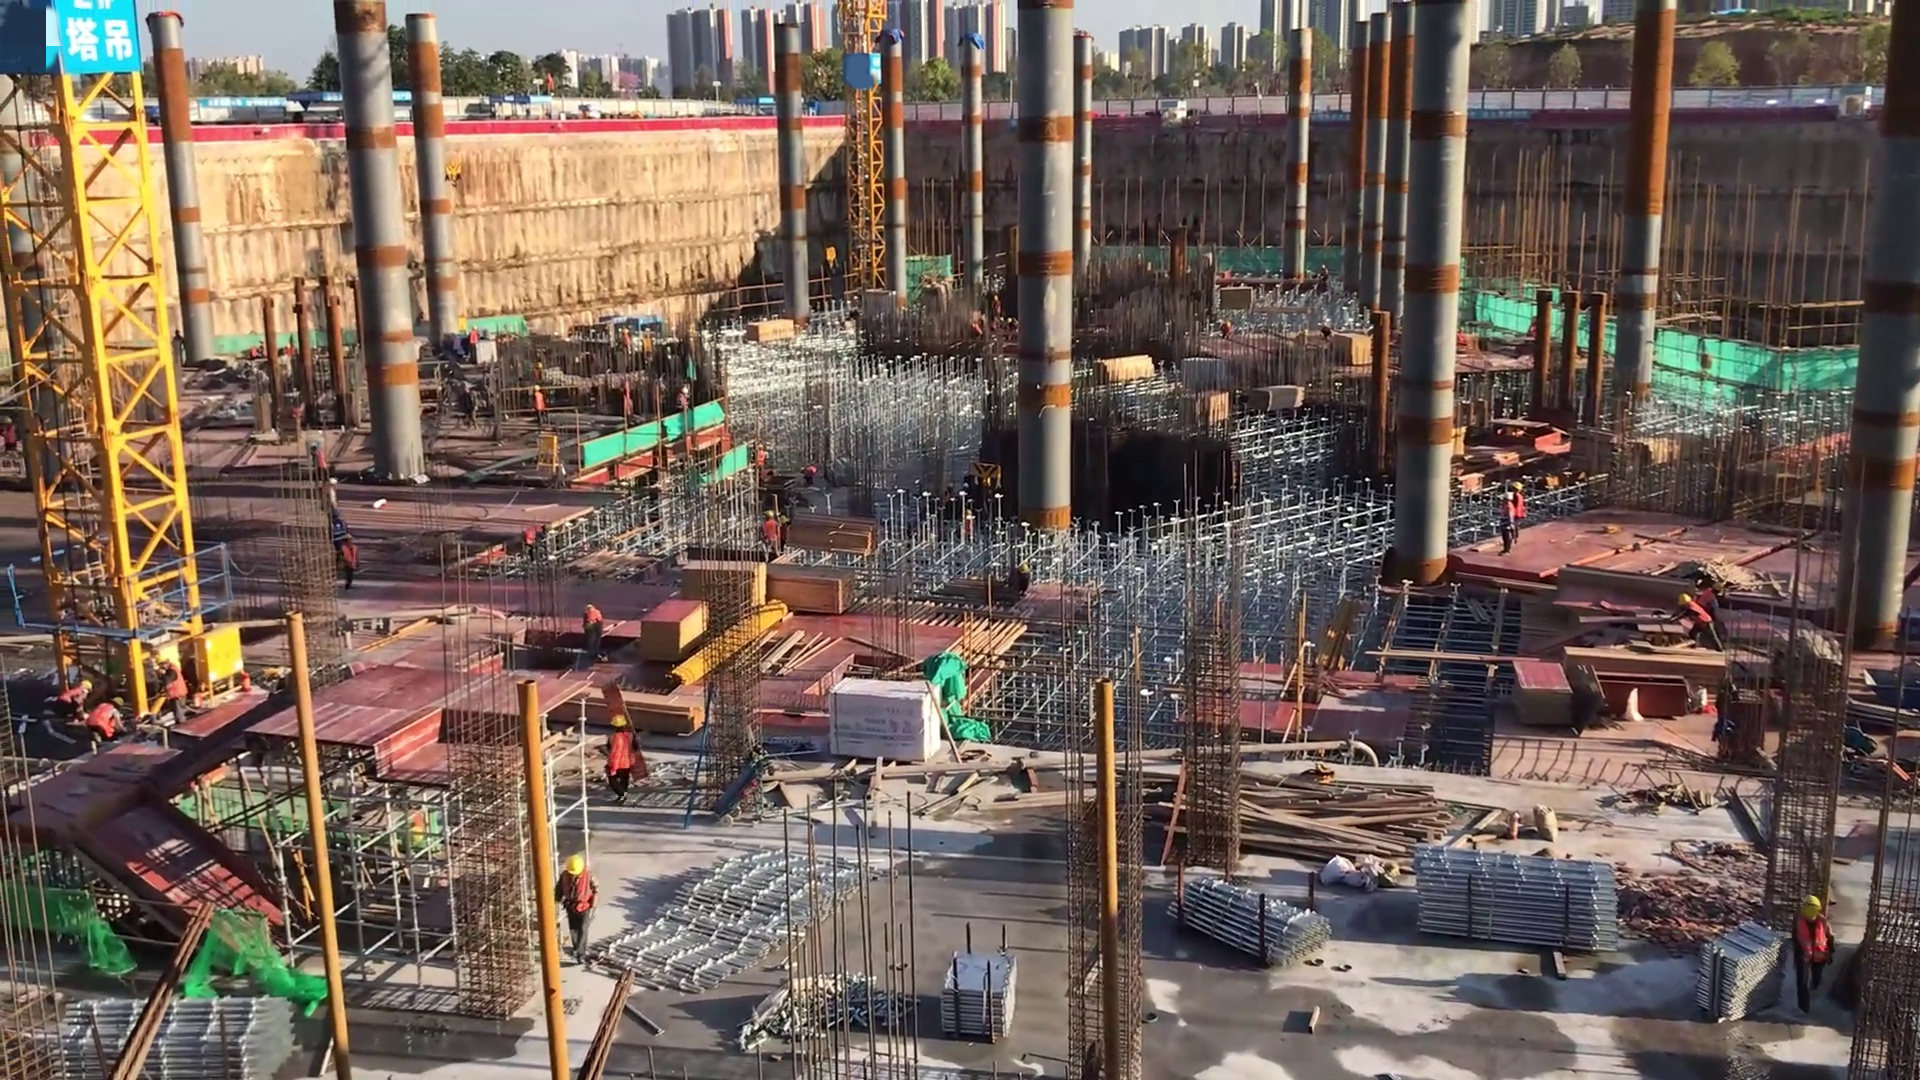board: (680, 560, 772, 621), (1508, 657, 1579, 729), (638, 597, 709, 666)
ebox: (198, 617, 245, 705), (536, 427, 569, 485)
helmet: (565, 851, 590, 879), (1799, 893, 1823, 922), (610, 709, 632, 732), (1675, 591, 1696, 612), (77, 678, 100, 692), (108, 693, 126, 709), (153, 652, 169, 669), (1510, 481, 1523, 496), (532, 383, 546, 394), (3, 415, 14, 429), (680, 384, 691, 396), (310, 440, 318, 454)
hook: (818, 238, 850, 278), (441, 156, 472, 188)
person: (1794, 893, 1832, 1018), (556, 852, 598, 963), (1674, 573, 1728, 653), (1670, 593, 1724, 656), (153, 655, 191, 733), (606, 711, 634, 808), (576, 598, 606, 679), (83, 694, 126, 745), (1334, 330, 1379, 373), (55, 679, 97, 722), (337, 532, 361, 592), (520, 516, 553, 559), (761, 508, 785, 566), (1507, 480, 1526, 549), (1500, 493, 1516, 558), (309, 437, 329, 486), (322, 477, 344, 520), (532, 382, 548, 435), (1, 413, 20, 455), (794, 459, 821, 487), (332, 524, 350, 565), (466, 323, 481, 364), (678, 382, 689, 421), (1221, 318, 1233, 340)
scaffold: (35, 977, 340, 1080), (1408, 849, 1631, 952), (1169, 869, 1340, 962), (1698, 923, 1779, 1034)
slogan: (37, 1, 140, 78), (1463, 109, 1539, 125), (1313, 111, 1359, 124)
vest: (555, 866, 600, 922), (1795, 916, 1829, 973), (607, 730, 632, 785), (90, 701, 120, 739), (1683, 600, 1713, 634), (163, 663, 187, 703), (62, 684, 87, 710), (1697, 586, 1717, 617), (763, 516, 779, 547), (585, 607, 603, 629)
wood: (1243, 779, 1453, 857), (1559, 646, 1744, 699), (763, 562, 869, 616), (788, 511, 882, 560), (575, 695, 714, 727), (751, 304, 801, 365), (1094, 352, 1162, 394), (1244, 383, 1313, 413)
